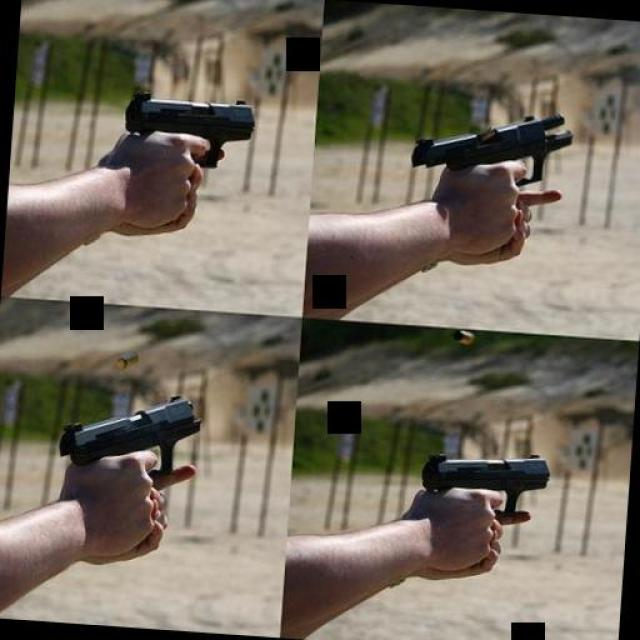gun: (407, 94, 575, 191), (58, 382, 198, 477), (121, 90, 256, 172), (416, 439, 550, 515)
